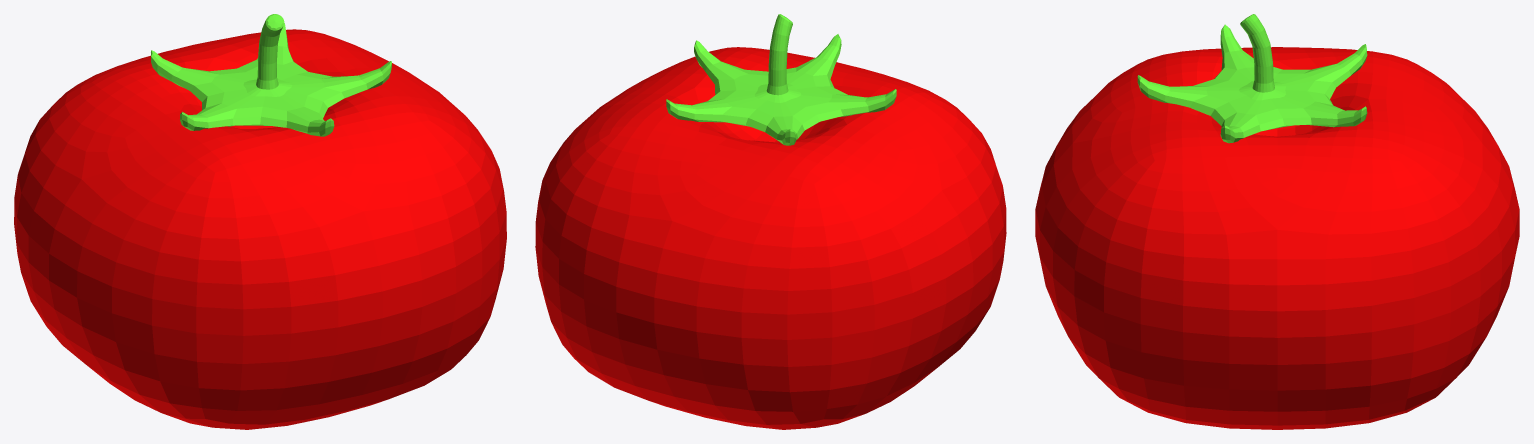
File: domates.fbx
3 renders of one model, left to right at view 1: azimuth 30°, elevation 25°; view 2: azimuth 150°, elevation 25°; view 3: azimuth 270°, elevation 25°, orthographic. The views are drawn at different scales.
Visible parts, largest first — view 1: Cylinder.041; view 2: Cylinder.041; view 3: Cylinder.041.
Part boxes in pixels (x1=…): Cylinder.041: x1=14, y1=14, x2=506, y2=429; Cylinder.041: x1=535, y1=14, x2=1006, y2=429; Cylinder.041: x1=1035, y1=14, x2=1519, y2=429.
Size of the model in its own units: 393 by 393 by 342.
